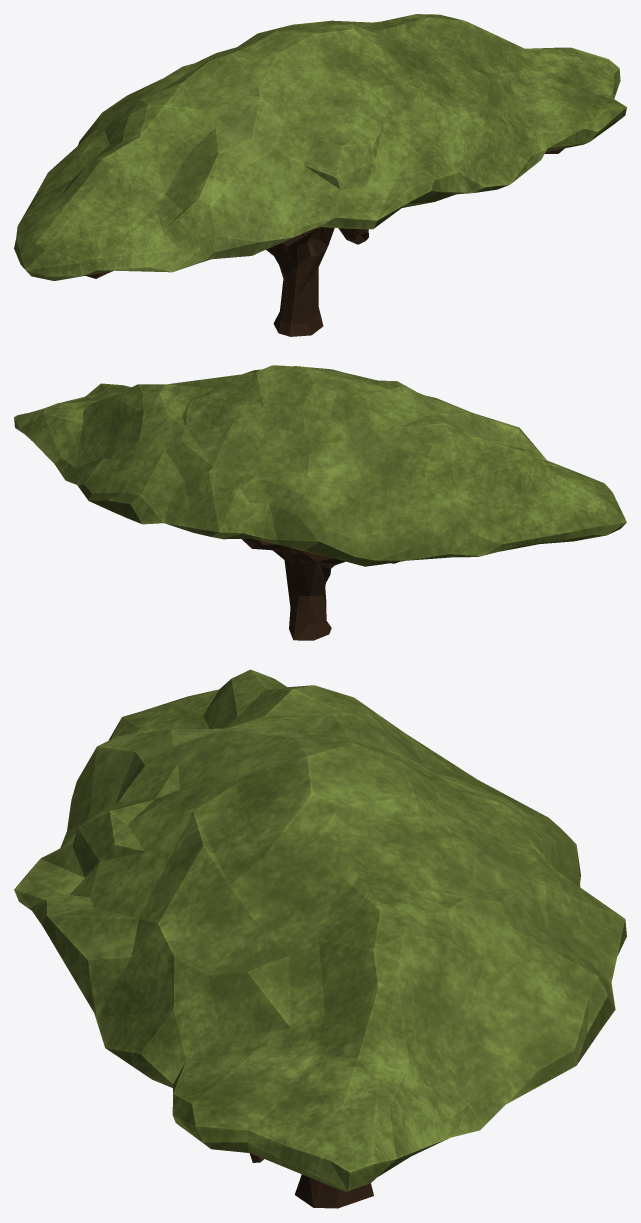
Rendered from 28d1b007-927a-4fbc-a3bf-1a38278dc73c.glb.
3 views of the same model, one above another, from view 1: azimuth 30°, elevation 25°; view 2: azimuth 150°, elevation 25°; view 3: azimuth 270°, elevation 25° (orthographic). The views are drawn at different scales.
Parts seen in each view (by area): view 1: Acacia_Mesh; view 2: Acacia_Mesh; view 3: Acacia_Mesh.
Boxes of the visible parts, x1,y1,x2,y2 form: Acacia_Mesh: [14, 14, 626, 336]; Acacia_Mesh: [14, 365, 626, 640]; Acacia_Mesh: [14, 669, 626, 1208].
Size of the model in its own units: 23.32 by 10.2 by 12.76.
1 material, 1 textured.
